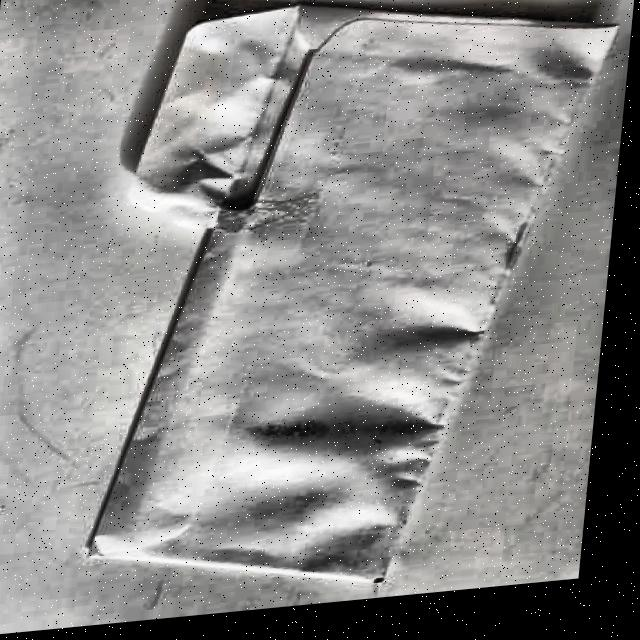paper: (74, 0, 621, 610)
